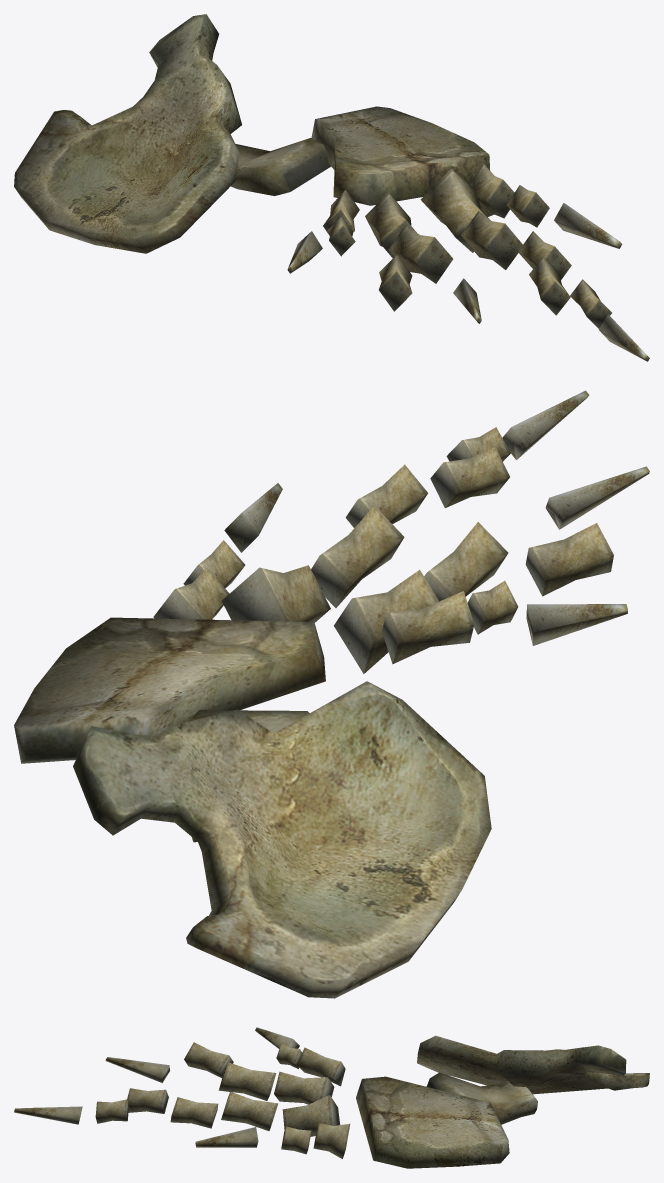
The model's file is bone_whale_arm01.fbx.
3 views of the same model, one above another, from view 1: azimuth 30°, elevation 25°; view 2: azimuth 150°, elevation 25°; view 3: azimuth 270°, elevation 25° (orthographic). The views are drawn at different scales.
Visible parts, largest first — view 1: bone_whale_arm01; view 2: bone_whale_arm01; view 3: bone_whale_arm01.
Part boxes in pixels (bbox=[...]): bone_whale_arm01: bbox=[14, 14, 649, 361]; bone_whale_arm01: bbox=[14, 390, 649, 998]; bone_whale_arm01: bbox=[14, 1027, 649, 1168].
Size of the model in its own units: 8.02 by 3.26 by 17.55.
